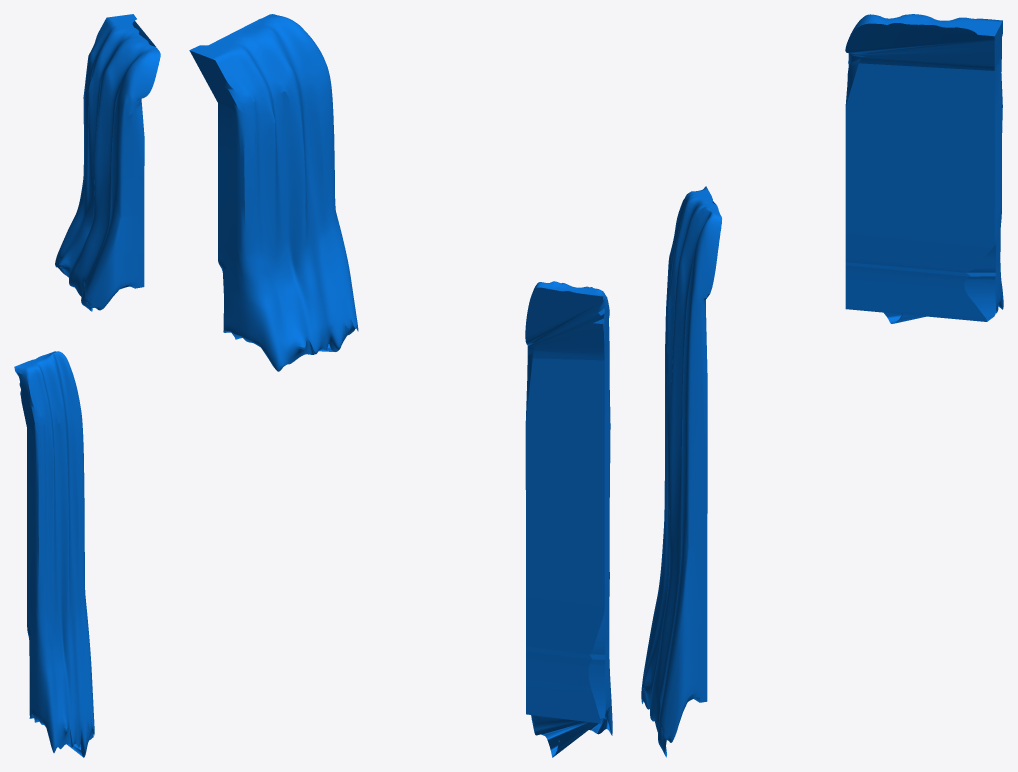
Rendered from waterfalls.fbx.
3 views of the same model, side by side, from view 1: azimuth 30°, elevation 25°; view 2: azimuth 150°, elevation 25°; view 3: azimuth 270°, elevation 25° (orthographic). The views are drawn at different scales.
Visible parts, largest first — view 1: Cube.006, Cube.001; view 2: Cube.001, Cube.006; view 3: Cube.001, Cube.006.
Boxes of the visible parts, x1=… form: Cube.006: x1=14, y1=351, x2=94, y2=757; Cube.001: x1=55, y1=14, x2=160, y2=311; Cube.001: x1=189, y1=14, x2=358, y2=371; Cube.006: x1=525, y1=281, x2=612, y2=757; Cube.001: x1=845, y1=14, x2=1003, y2=323; Cube.006: x1=641, y1=186, x2=721, y2=757.
Bounding box in the file's own units: 464 × 1209 × 475.
